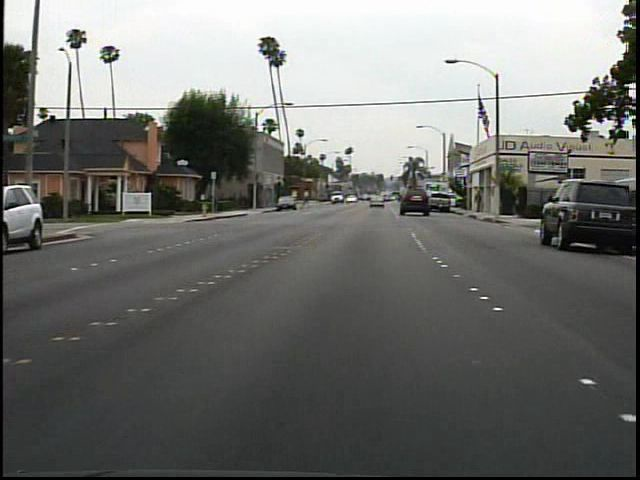person: (469, 187, 486, 216)
